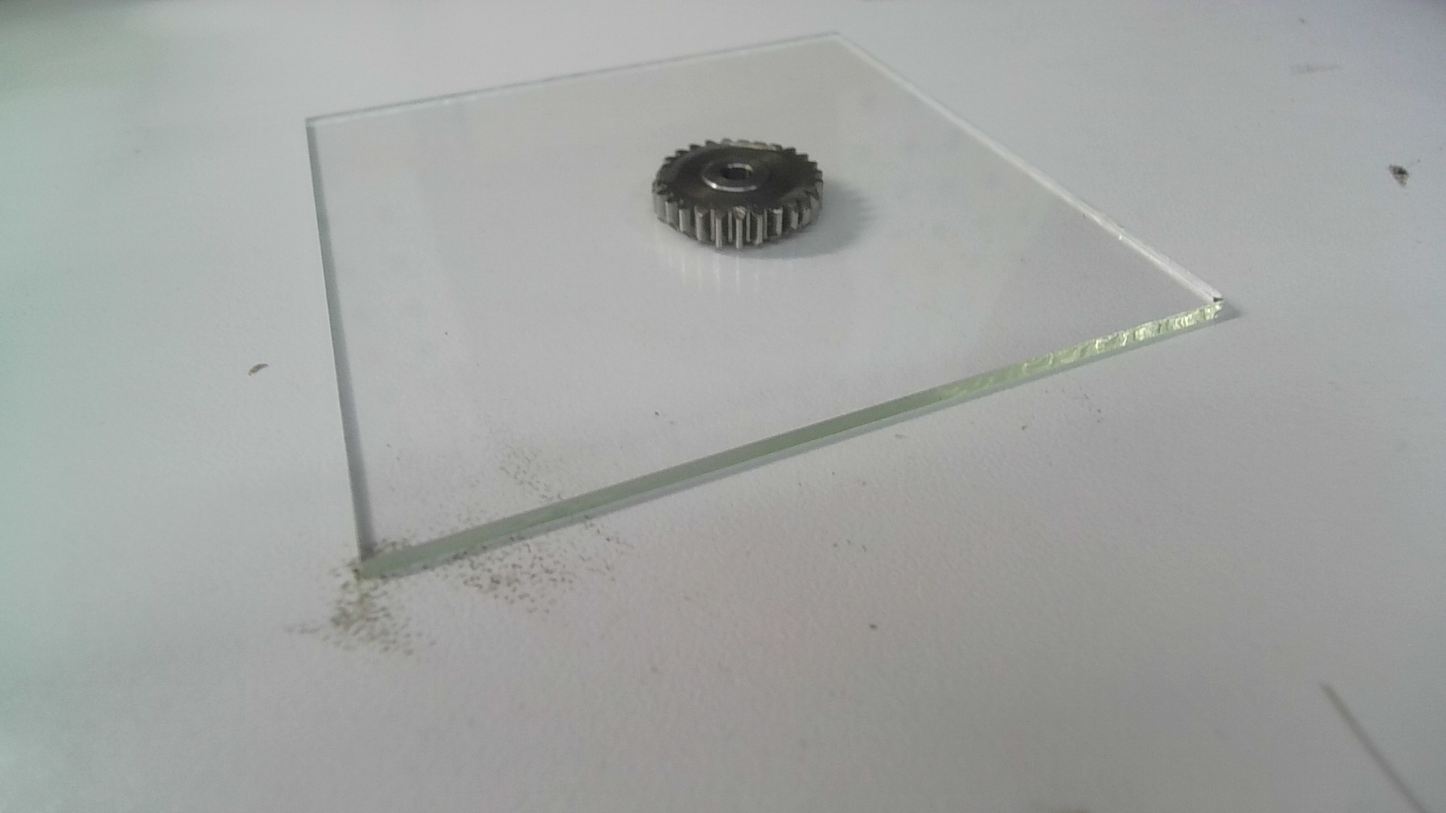gear: (647, 130, 831, 259)
